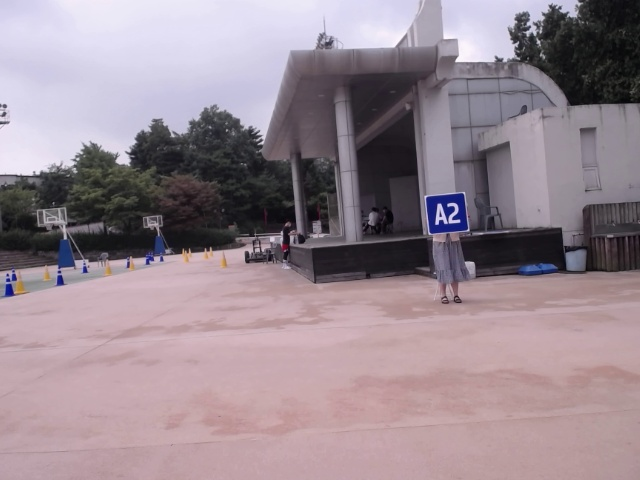delivery_a2: (425, 192, 469, 236)
